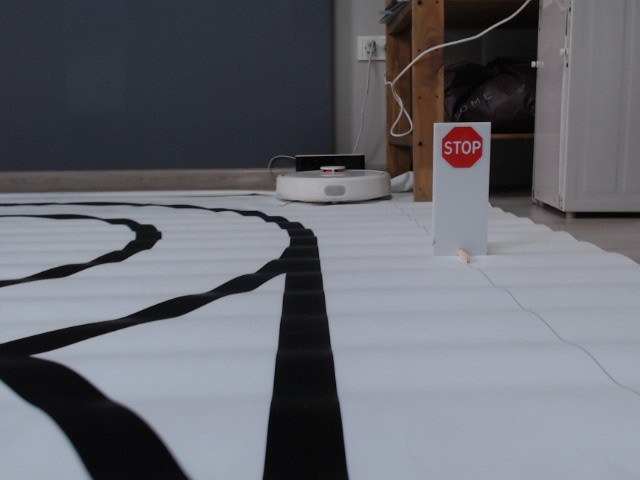Stop: (441, 126, 484, 170)
